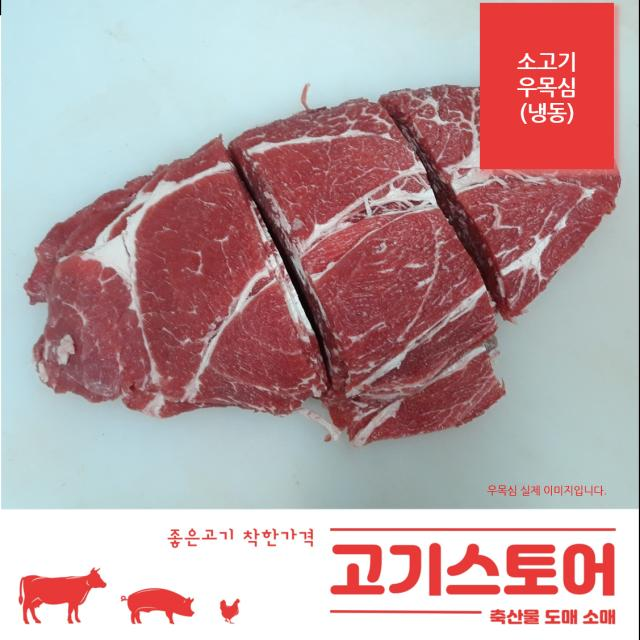beef: (29, 178, 300, 422), (264, 115, 467, 423)
